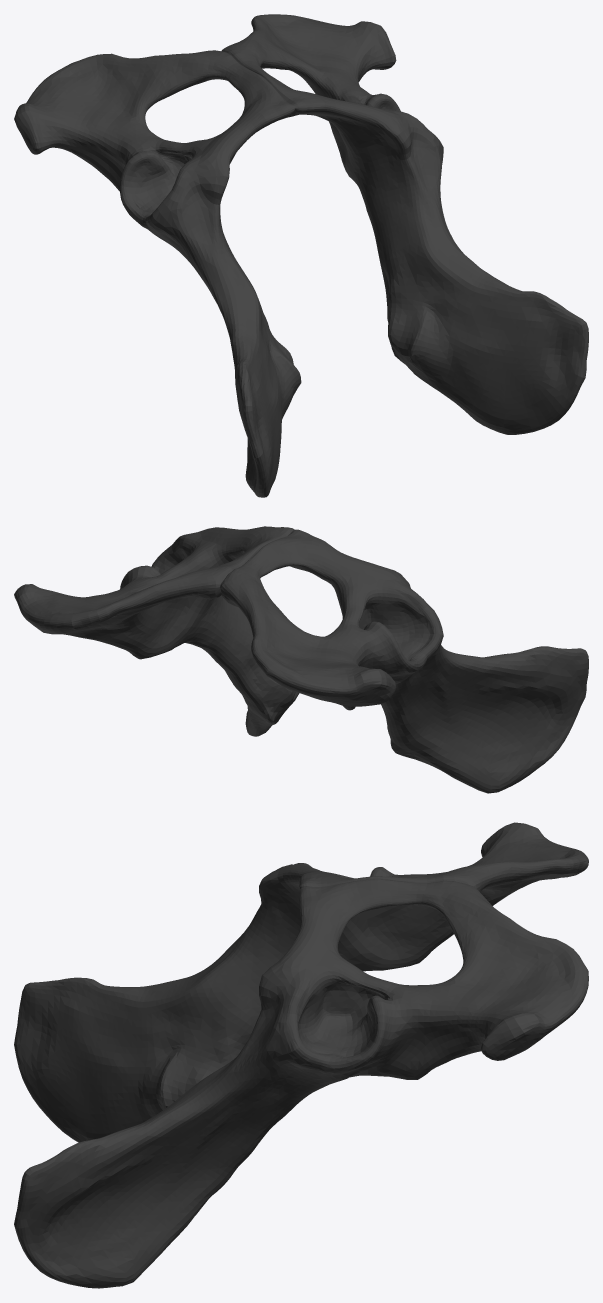
Rendered from Pelvis_1.glb.
The picture shows the model from 3 angles, top to bottom: view 1: azimuth 30°, elevation 25°; view 2: azimuth 150°, elevation 25°; view 3: azimuth 270°, elevation 25°; orthographic projection. The views are drawn at different scales.
Parts seen in each view (by area): view 1: Pelvis_1; view 2: Pelvis_1; view 3: Pelvis_1.
Part boxes in pixels (box(x1,y1,x2,y2)): Pelvis_1: box(14, 14, 588, 497); Pelvis_1: box(14, 526, 588, 793); Pelvis_1: box(14, 822, 588, 1288).
Bounding box in the file's own units: 0.00411 × 0.00318 × 0.00486.
1 material, 1 textured.
